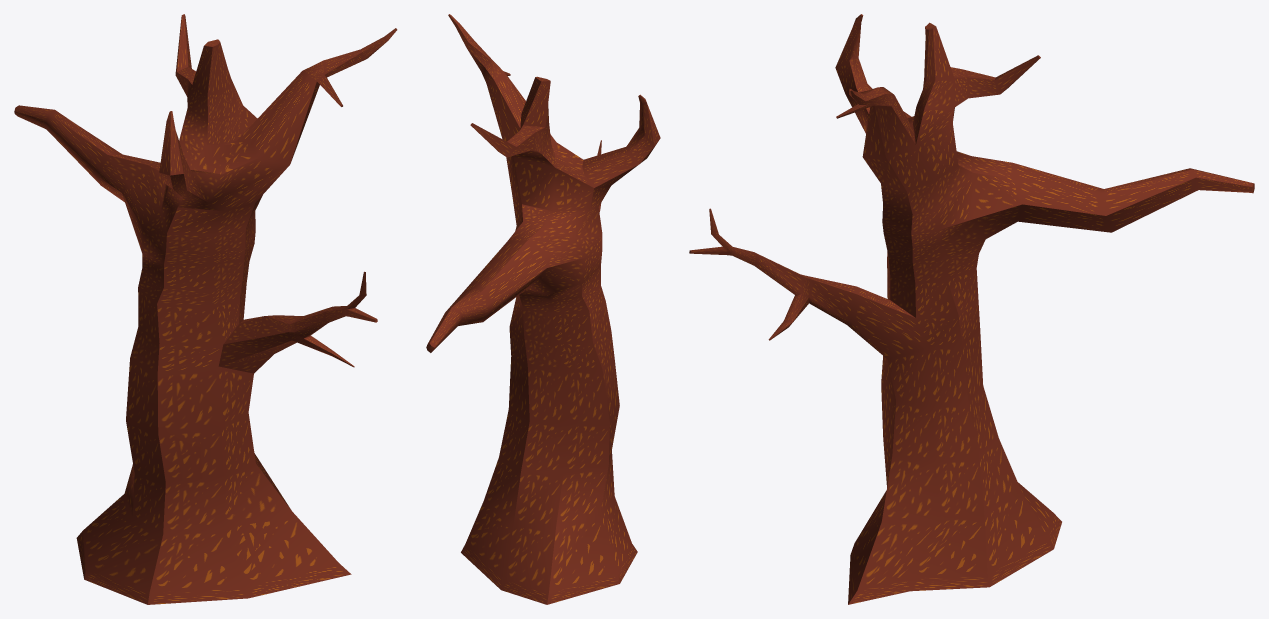
File: deadTree1.obj
3 views of the same model, side by side, from view 1: azimuth 30°, elevation 25°; view 2: azimuth 150°, elevation 25°; view 3: azimuth 270°, elevation 25° (orthographic). The views are drawn at different scales.
Parts seen in each view (by area): view 1: Cylinder; view 2: Cylinder; view 3: Cylinder.
Boxes of the visible parts, x1,y1,x2,y2 form: Cylinder: [14, 14, 397, 604]; Cylinder: [426, 14, 660, 604]; Cylinder: [689, 14, 1254, 604].
Bounding box in the file's own units: 5.17 × 10.43 × 9.92.
